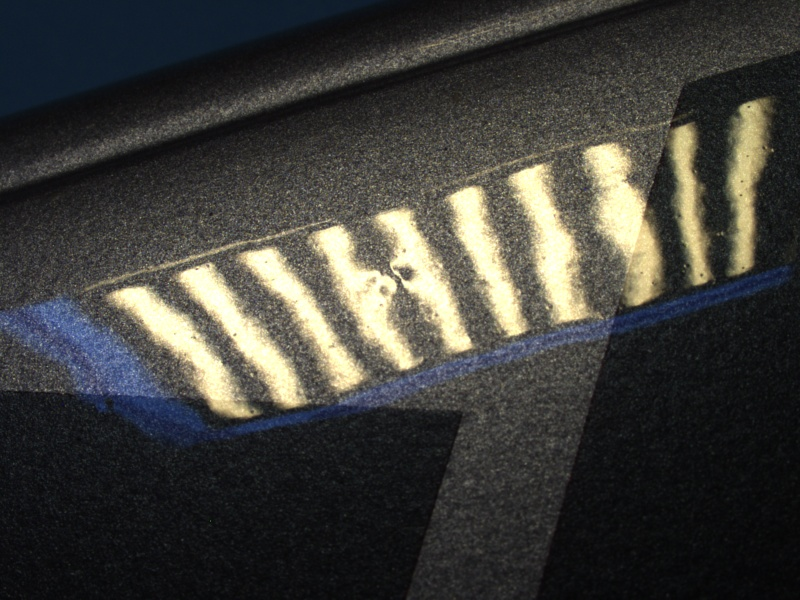bad: (358, 246, 435, 318)
